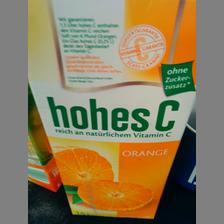Saft: (28, 0, 196, 222)
